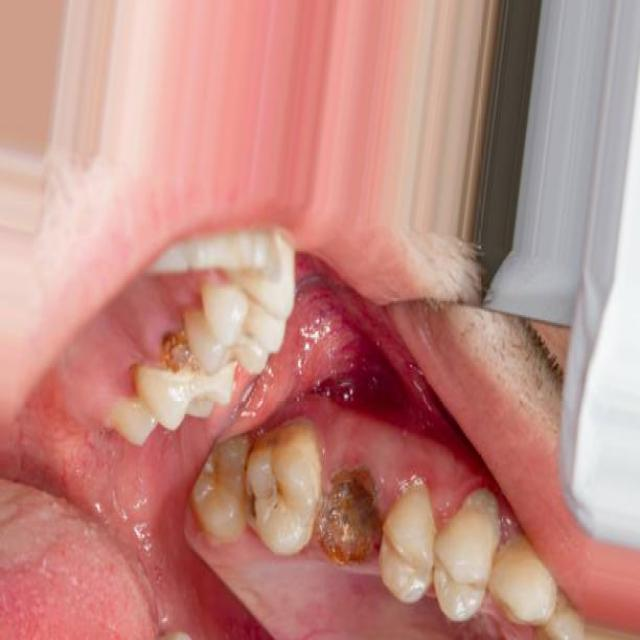caries: (304, 462, 392, 576), (157, 318, 213, 400), (243, 471, 281, 531)
